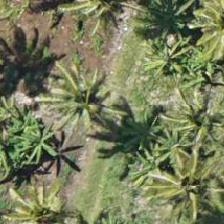coconut_tree: (127, 8, 217, 98), (35, 58, 125, 148), (154, 79, 223, 169), (150, 146, 223, 223)
